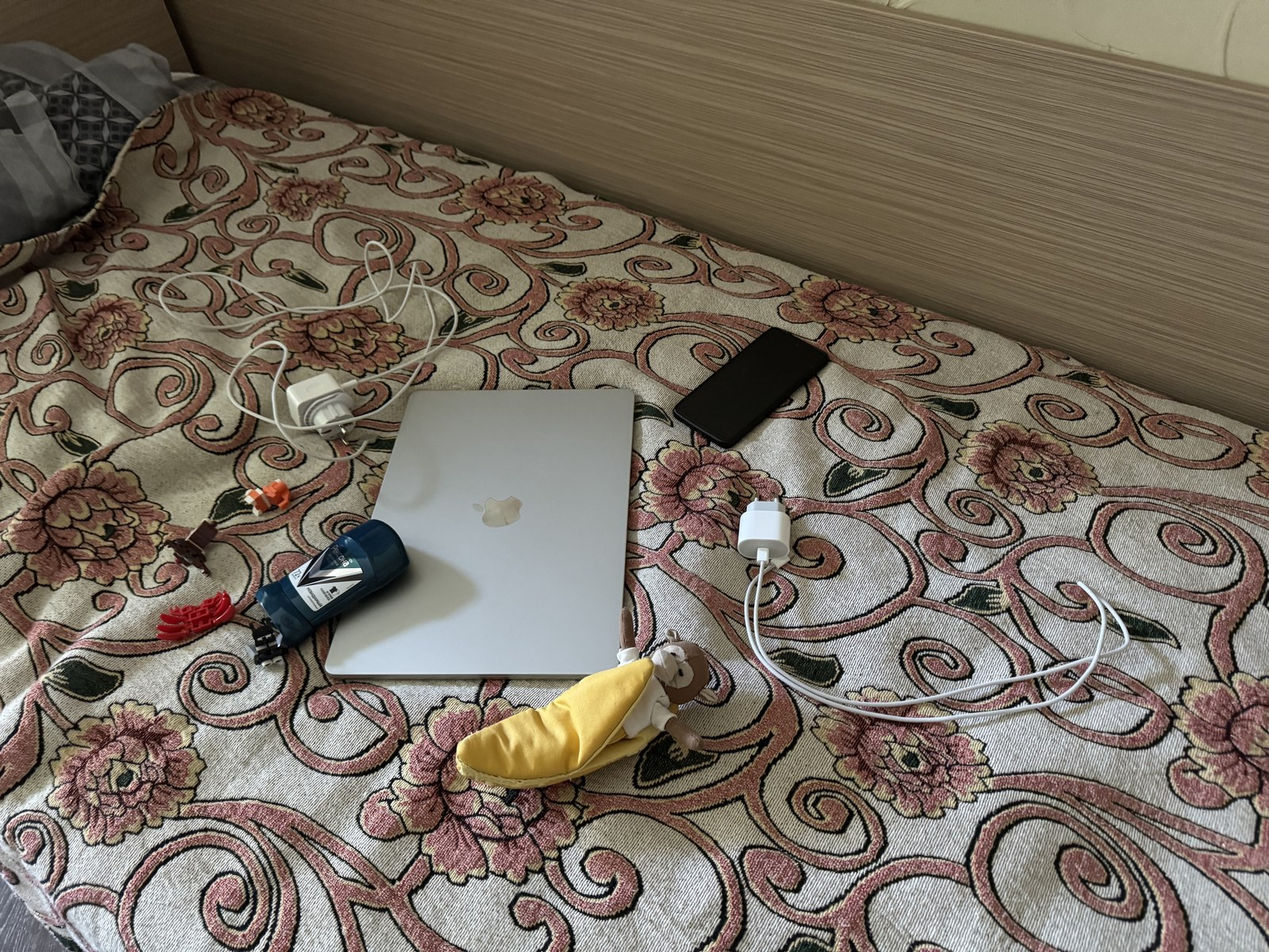cell phone: (672, 326, 830, 450)
laptop: (323, 387, 635, 680)
